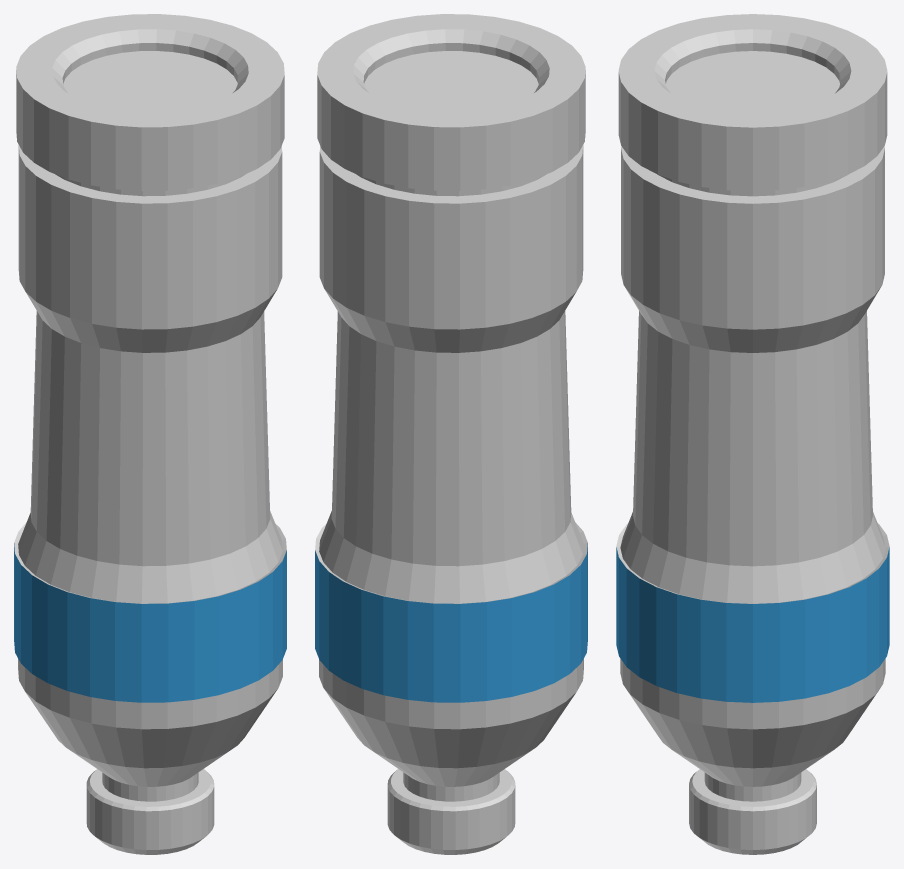
File: 플라스틱.glb
3 views of the same model, side by side, from view 1: azimuth 30°, elevation 25°; view 2: azimuth 150°, elevation 25°; view 3: azimuth 270°, elevation 25° (orthographic).
Visible parts, largest first — view 1: Cylinder; view 2: Cylinder; view 3: Cylinder.
Part boxes in pixels (box(x1,y1,x2,y2)): Cylinder: box(14, 14, 286, 854); Cylinder: box(315, 14, 587, 854); Cylinder: box(616, 14, 889, 854).
Size of the model in its own units: 1.13 by 3.47 by 1.13.
